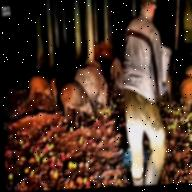boar: (57, 74, 95, 133), (77, 53, 108, 108), (25, 66, 52, 103), (107, 52, 119, 85), (180, 74, 192, 104)
